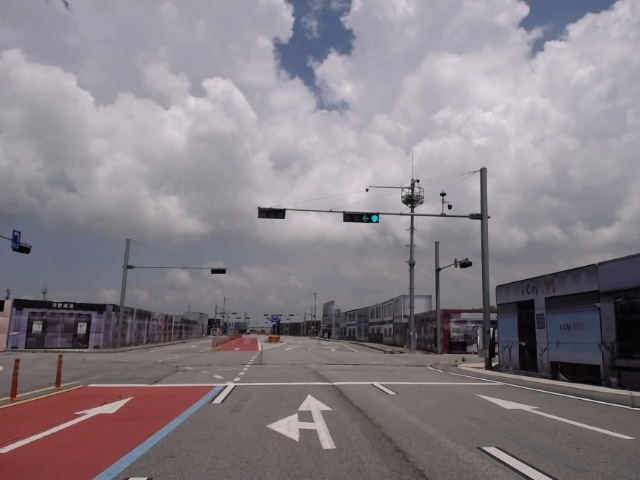all_green_4: (342, 212, 382, 222)
